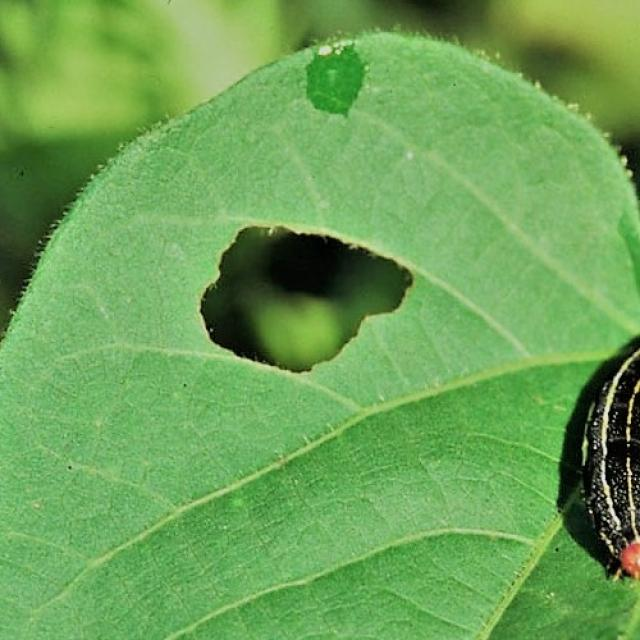armyworm: (578, 336, 638, 582)
